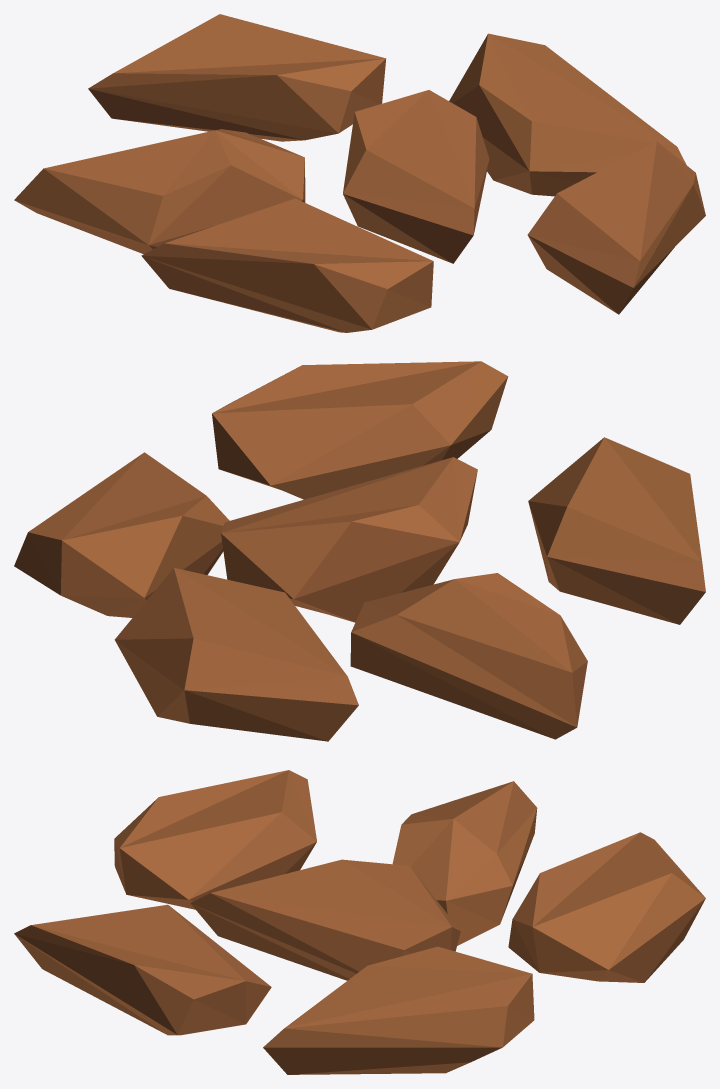
The model's file is apple_seeds.fbx.
3 views of the same model, one above another, from view 1: azimuth 30°, elevation 25°; view 2: azimuth 150°, elevation 25°; view 3: azimuth 270°, elevation 25° (orthographic). The views are drawn at different scales.
Parts seen in each view (by area): view 1: pCube89; view 2: pCube89; view 3: pCube89.
Boxes of the visible parts, x1,y1,x2,y2 form: pCube89: (14,14,705,332); pCube89: (14,361,705,741); pCube89: (14,770,705,1074).
Bounding box in the file's own units: 4.04 × 0.8842 × 4.86.
